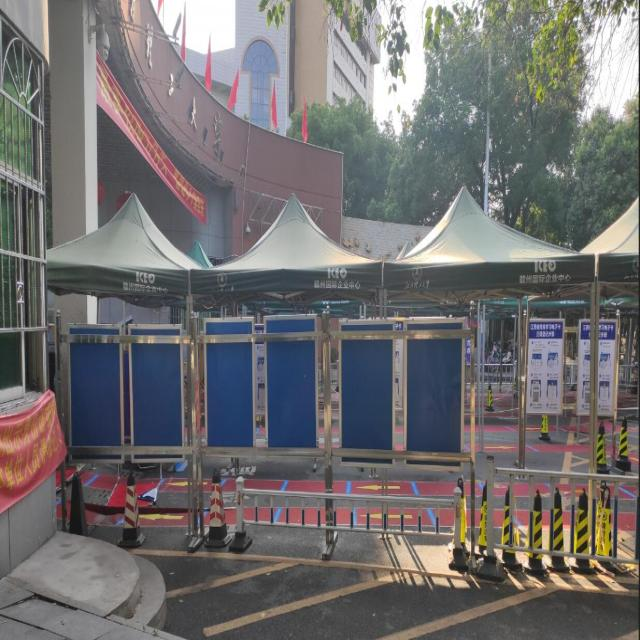reflective_cone: (567, 487, 594, 572), (203, 465, 231, 546), (543, 486, 570, 570), (521, 486, 547, 573), (496, 482, 522, 568), (118, 469, 145, 547), (592, 486, 614, 567), (449, 476, 468, 551), (473, 478, 490, 554), (68, 471, 88, 534), (615, 414, 632, 469), (595, 420, 609, 473), (538, 413, 550, 439), (484, 380, 494, 411)
